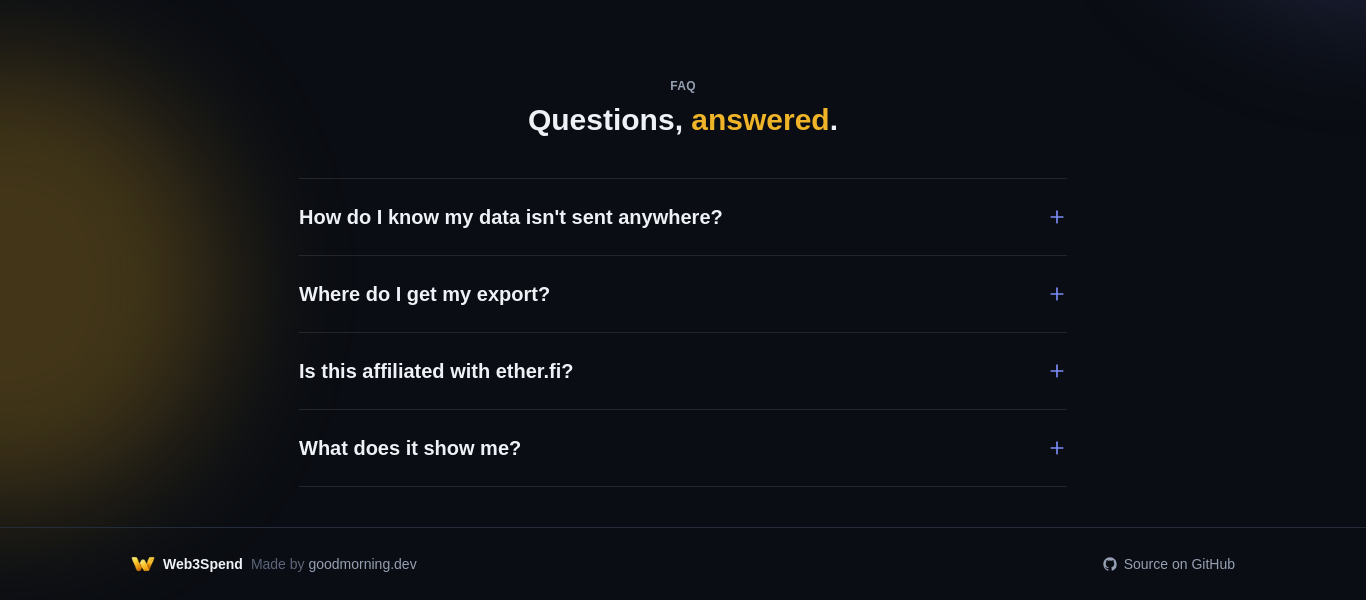
Test: Home › answers the common questions, each opening on click
The image size is (1366, 600).
(page scrolled)
Click the heading "Is this affiliated with ether.fi?" at {"x": 436, "y": 370}, box [299, 360, 1067, 382]
(page scrolled)
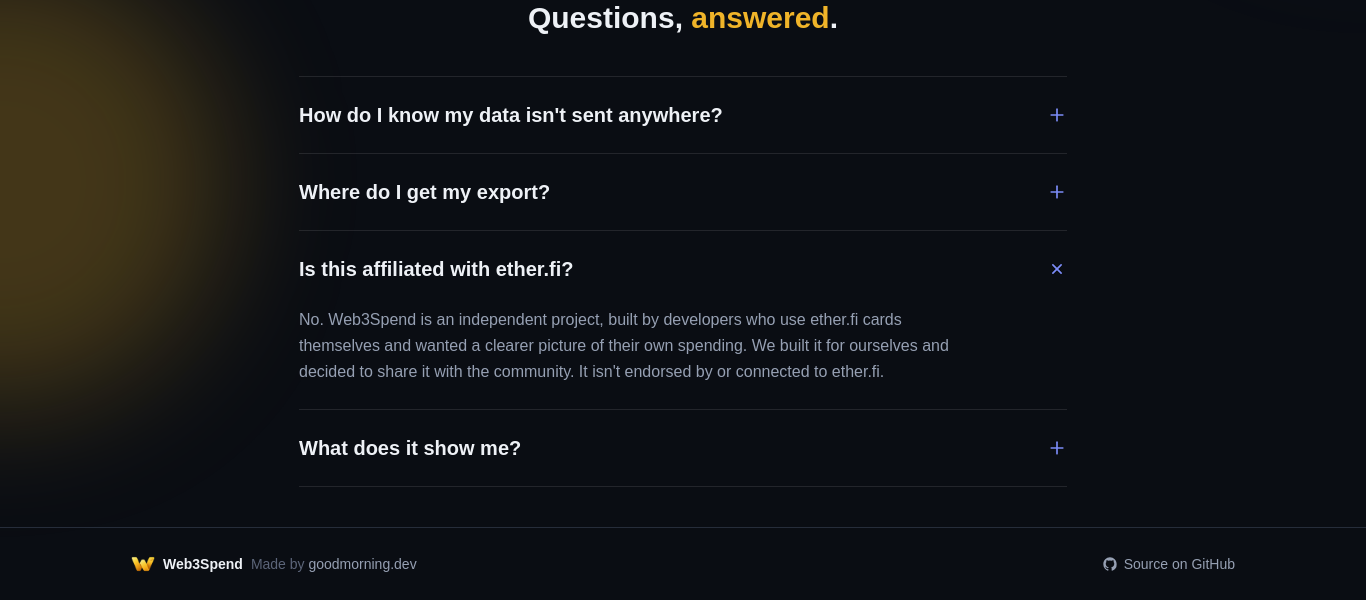
Expected: the text "isn't endorsed by or connected to ether.fi" is shown, [299, 310, 949, 380]
